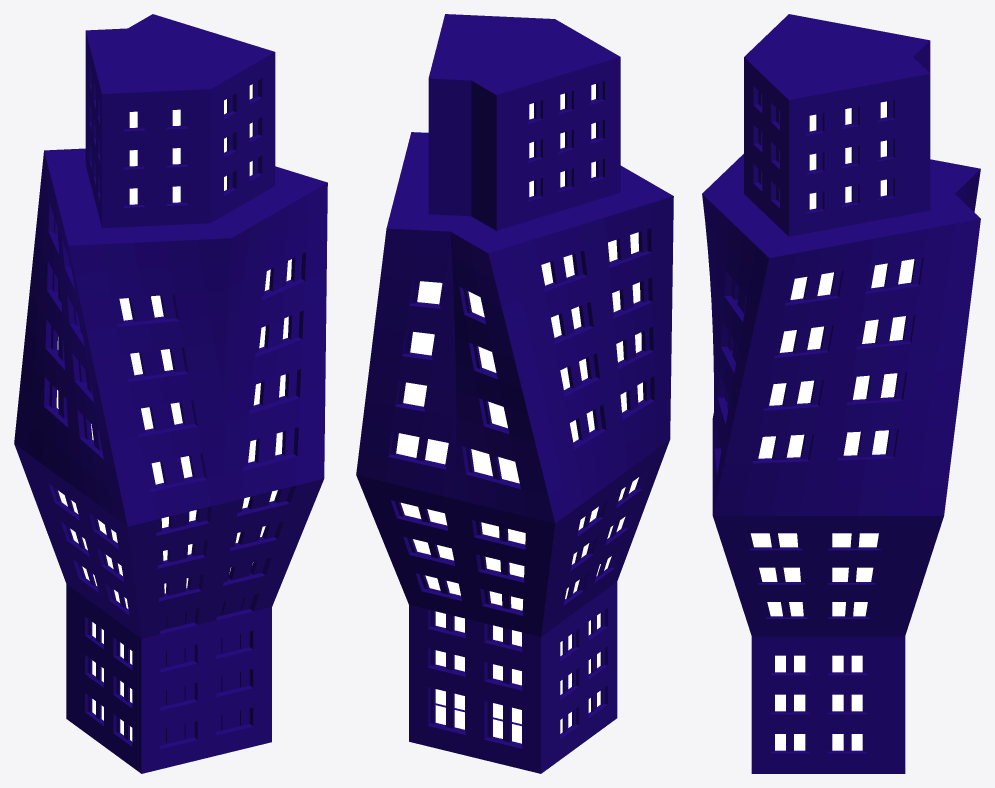
File: the_twist.fbx
3 views of the same model, side by side, from view 1: azimuth 30°, elevation 25°; view 2: azimuth 150°, elevation 25°; view 3: azimuth 270°, elevation 25° (orthographic).
Visible parts, largest first — view 1: Cube; view 2: Cube; view 3: Cube.
Boxes of the visible parts, box(x1,y1,x2,y2) form: Cube: box(14, 14, 327, 773); Cube: box(356, 14, 673, 773); Cube: box(702, 14, 980, 773).
Size of the model in its own units: 556 by 1377 by 509.
